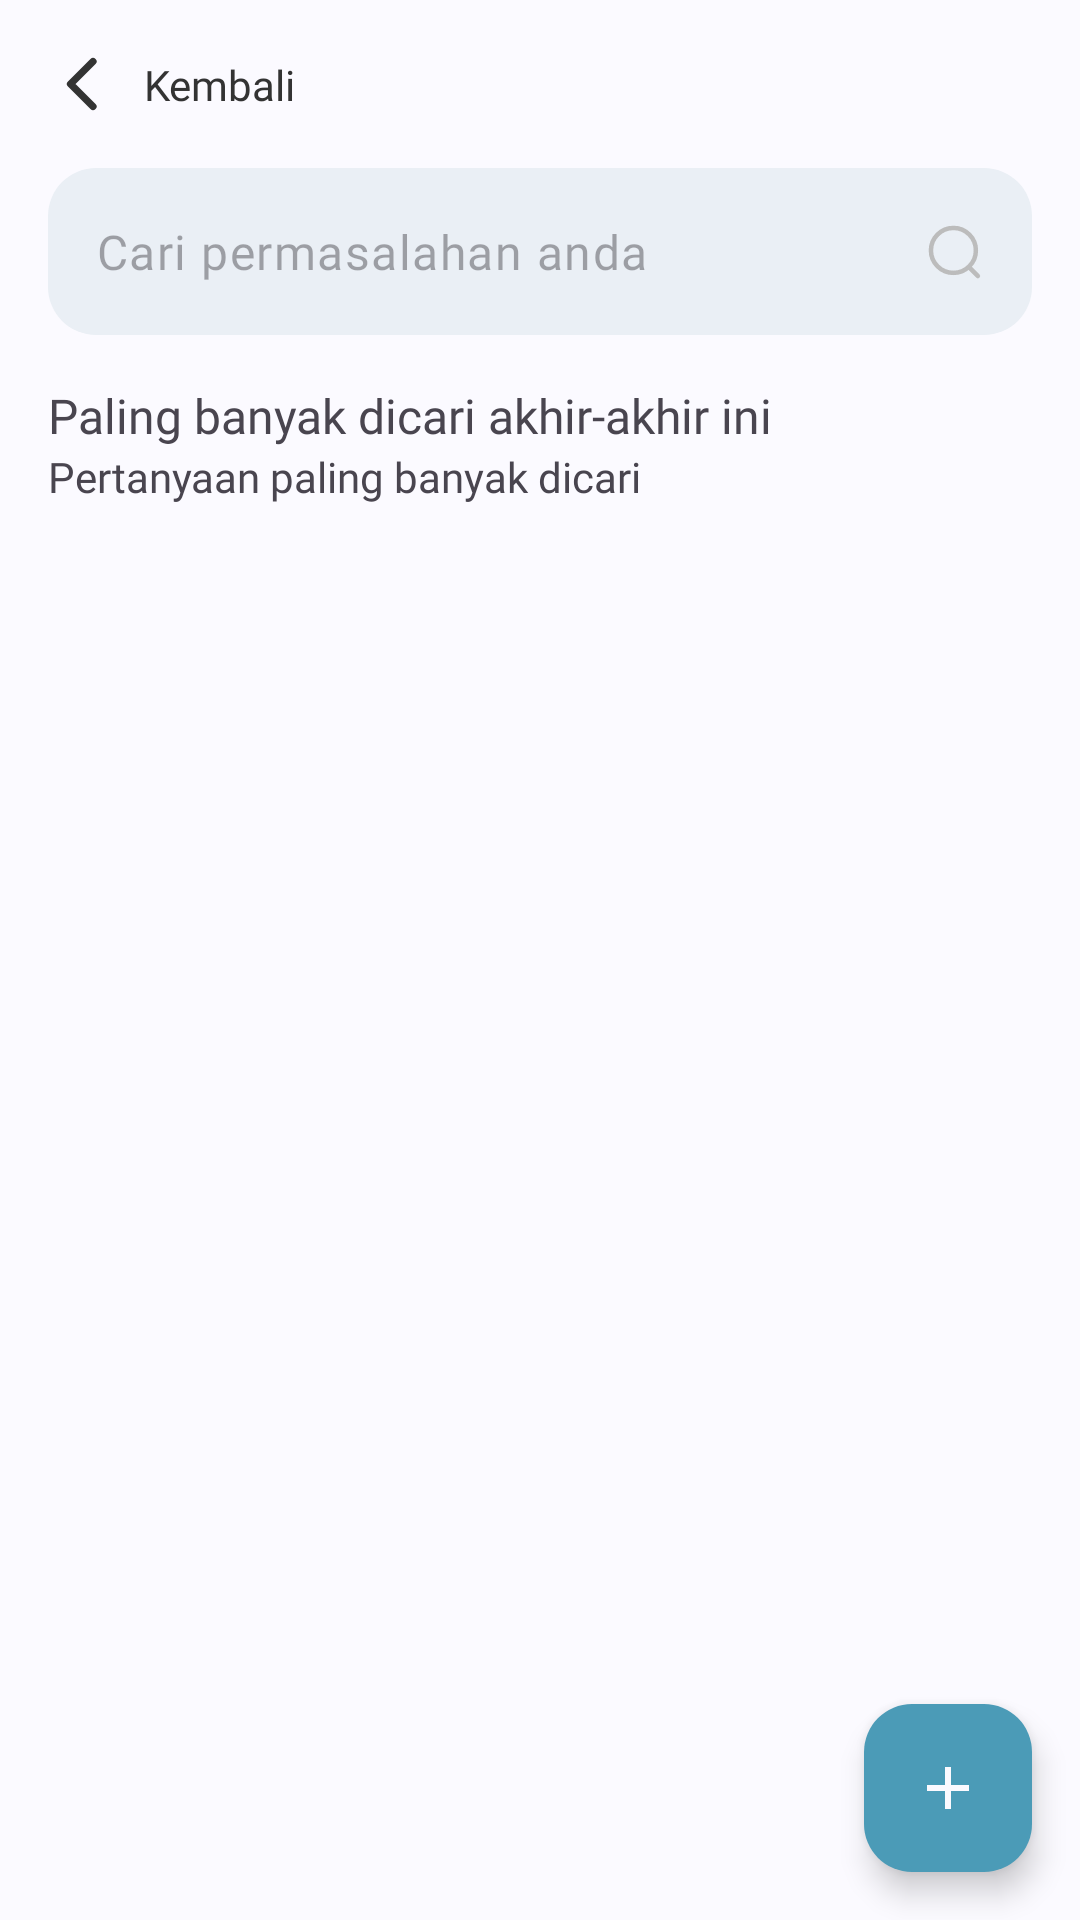

Icons on this 1080px x 1920px Android screen, each with the point to tap as (x,y):
add: (948,1788)
caretleft: (81,84)
